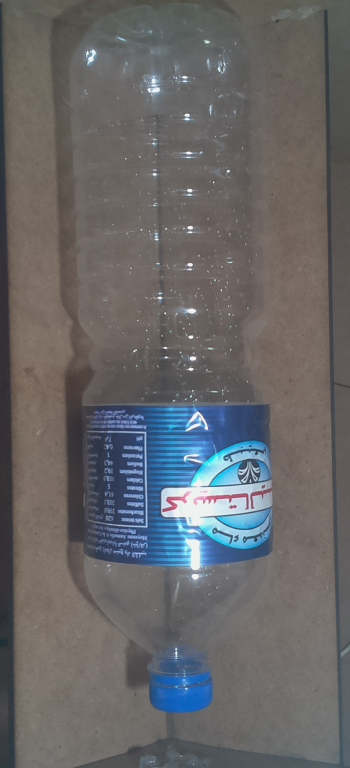Bouteille_2L: (64, 5, 290, 720)
